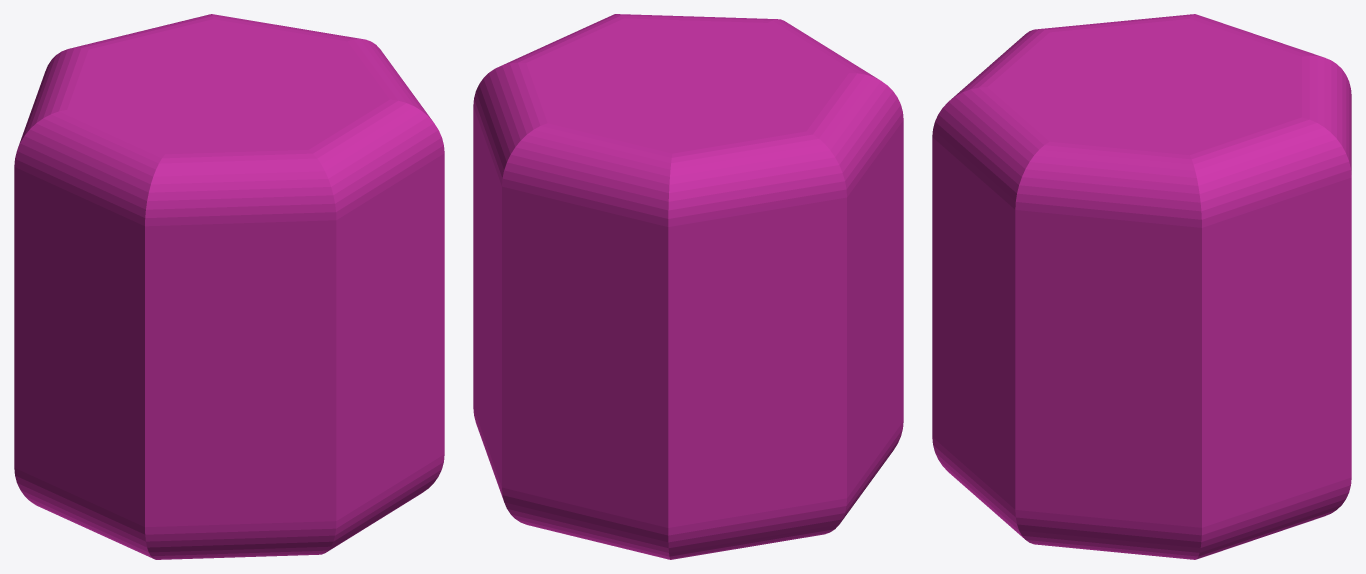
3 views of the same model, side by side, from view 1: azimuth 30°, elevation 25°; view 2: azimuth 150°, elevation 25°; view 3: azimuth 270°, elevation 25° (orthographic).
Parts seen in each view (by area): view 1: Mesh_Mesh_head_geo.001_lambert2SG.001; view 2: Mesh_Mesh_head_geo.001_lambert2SG.001; view 3: Mesh_Mesh_head_geo.001_lambert2SG.001.
Boxes of the visible parts, left/top/right/bottom form: Mesh_Mesh_head_geo.001_lambert2SG.001: left=14, top=14, right=444, bottom=559; Mesh_Mesh_head_geo.001_lambert2SG.001: left=473, top=14, right=903, bottom=559; Mesh_Mesh_head_geo.001_lambert2SG.001: left=932, top=14, right=1351, bottom=559.
Bounding box in the file's own units: 19.5 × 20 × 19.01.
